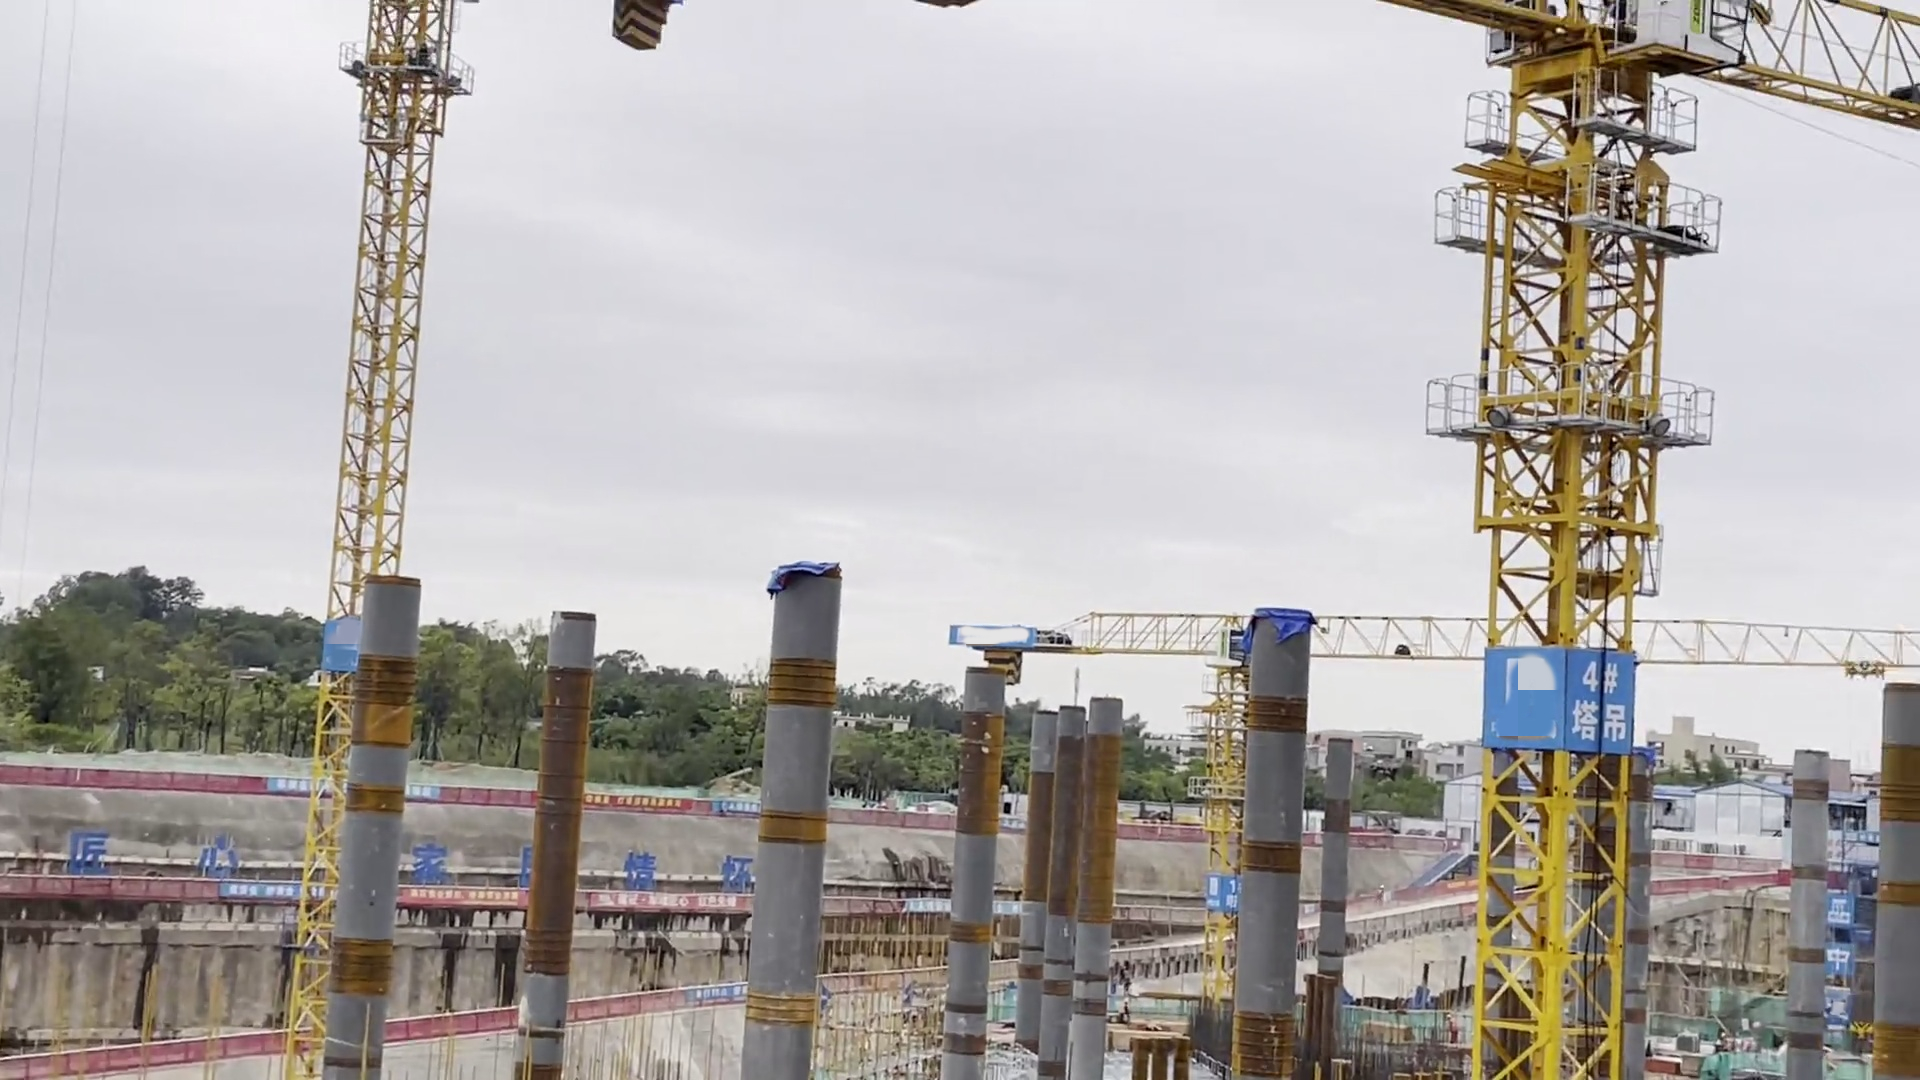fence: (21, 1012, 501, 1068), (82, 735, 249, 796)
helmet: (1123, 999, 1130, 1004), (1378, 884, 1385, 888)
person: (1372, 881, 1388, 909), (1120, 997, 1133, 1024)
slogan: (411, 841, 767, 893), (54, 823, 251, 878), (263, 764, 441, 800), (1570, 656, 1637, 747), (579, 787, 693, 819), (223, 878, 331, 910), (591, 891, 743, 913), (406, 885, 525, 908), (711, 794, 764, 815), (1221, 876, 1245, 909)
